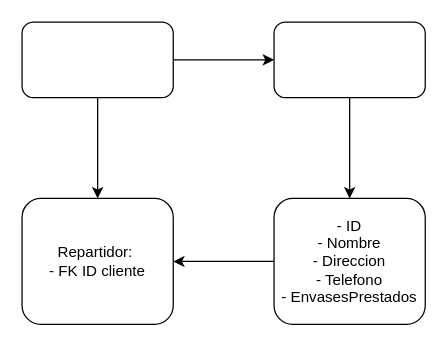
Image size: 447x347. Some labels were removed from this diagram. The box of each missing label's shape, as (x1, y1, x2, y2) in pixels:
Admin Soderia: (21, 21, 173, 98)
Clientes: (273, 21, 425, 98)
